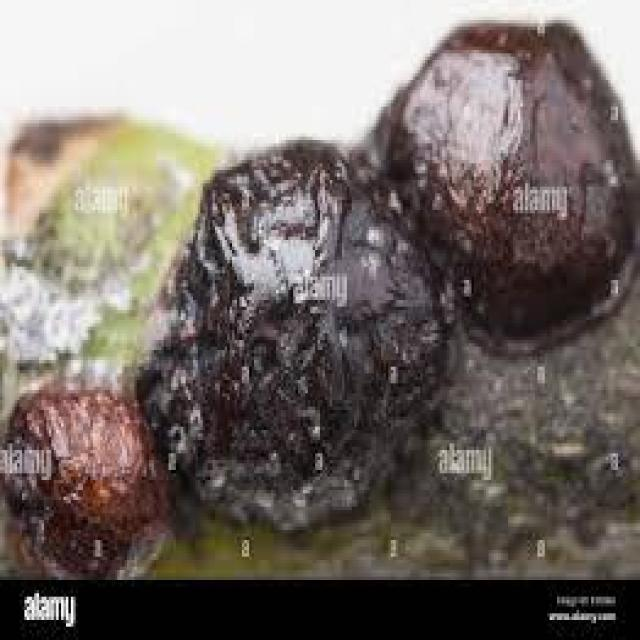BlackScale: (139, 140, 452, 513), (384, 23, 636, 350), (0, 384, 164, 574)
